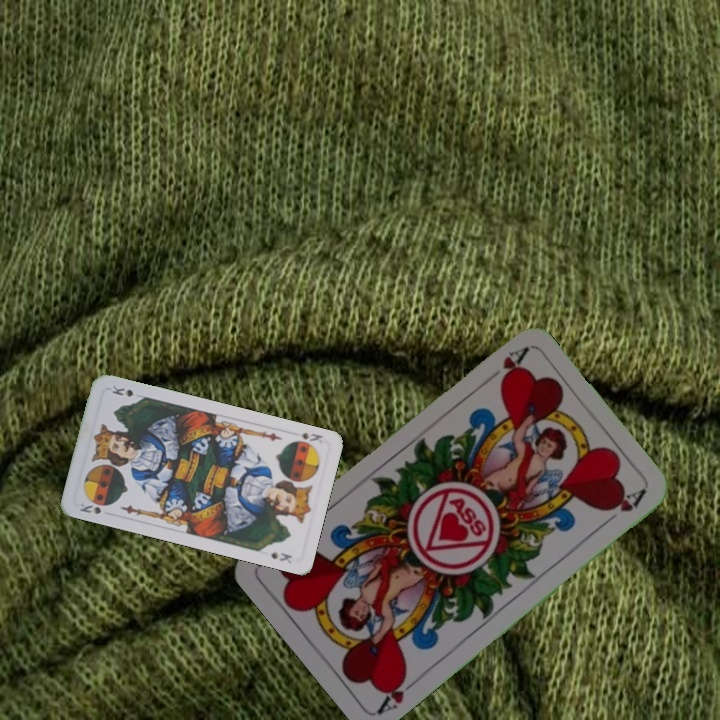HA: (373, 668, 423, 717), (482, 344, 530, 387)
SK: (296, 428, 327, 447), (76, 499, 104, 517)
